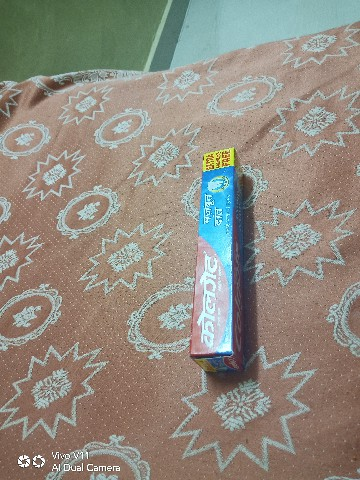colgatetoothpaste big: (172, 122, 261, 389)
